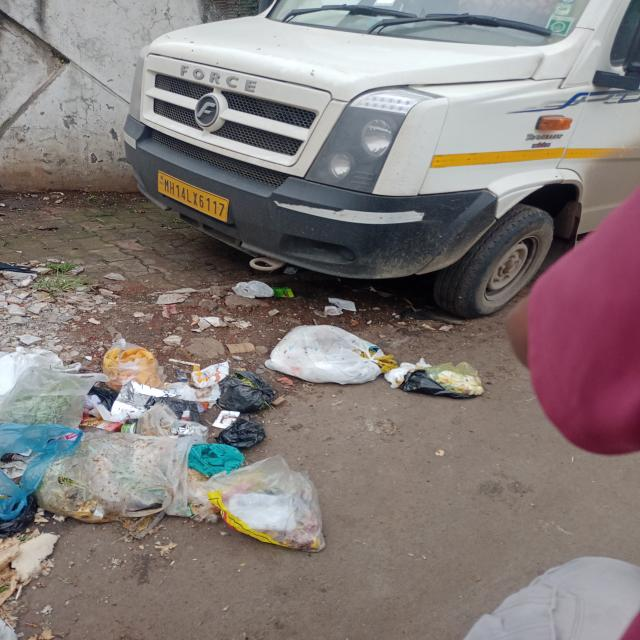garbage: (0, 321, 482, 574)
